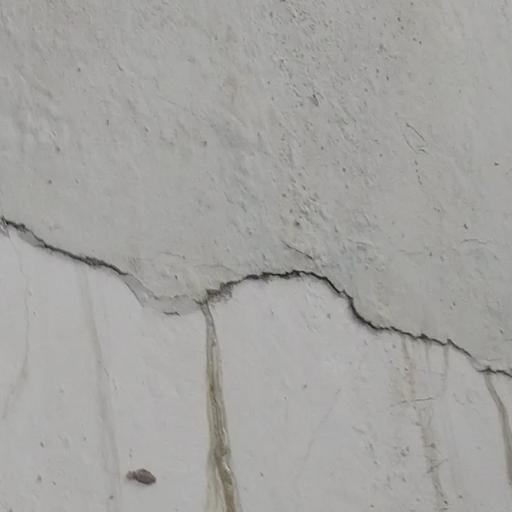major_crack: (5, 188, 512, 392)
